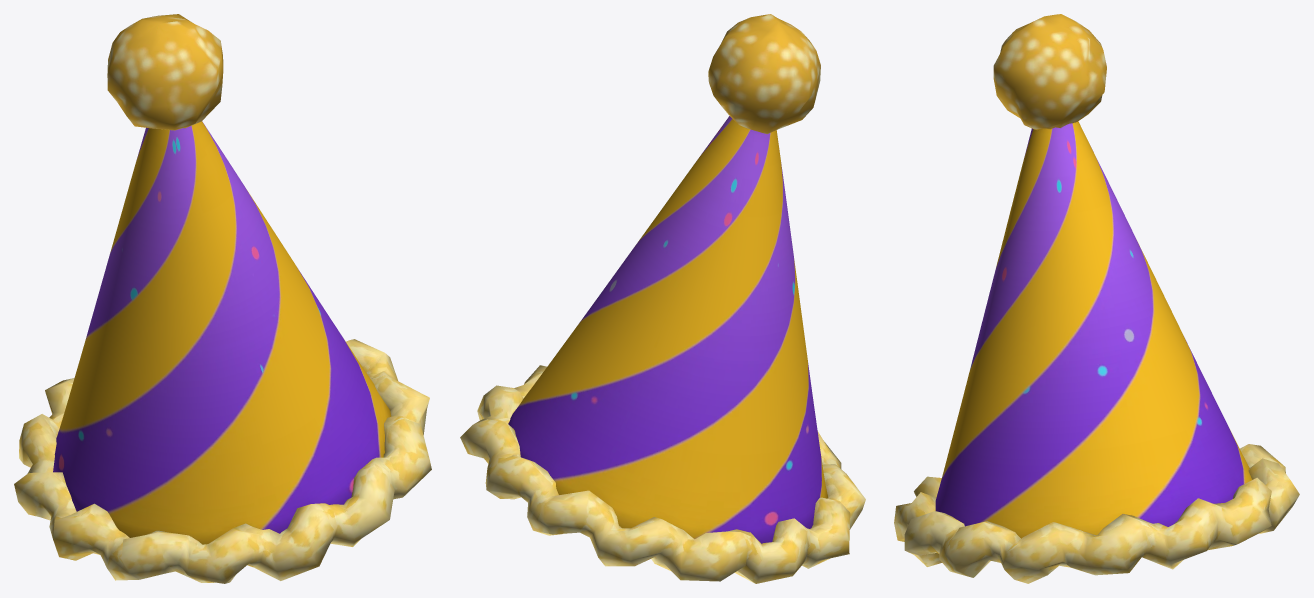
File: party.glb
3 renders of one model, left to right at view 1: azimuth 30°, elevation 25°; view 2: azimuth 150°, elevation 25°; view 3: azimuth 270°, elevation 25°, orthographic. The views are drawn at different scales.
Parts seen in each view (by area): view 1: Hat, jiggle_pom; view 2: Hat, jiggle_pom; view 3: Hat, jiggle_pom.
Boxes of the visible parts, x1=… form: Hat: x1=14, y1=121, x2=431, y2=583; jiggle_pom: x1=107, y1=14, x2=223, y2=130; Hat: x1=460, y1=116, x2=865, y2=583; jiggle_pom: x1=708, y1=14, x2=820, y2=133; Hat: x1=894, y1=121, x2=1299, y2=583; jiggle_pom: x1=993, y1=14, x2=1106, y2=130.
Size of the model in its own units: 0.3659 by 0.5211 by 0.373.
1 material, 1 textured.
